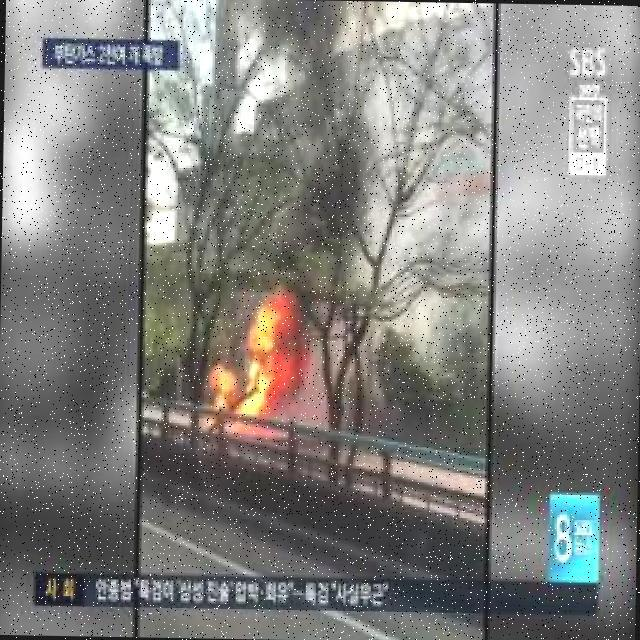Fire: (233, 312, 300, 425), (209, 364, 226, 431)
